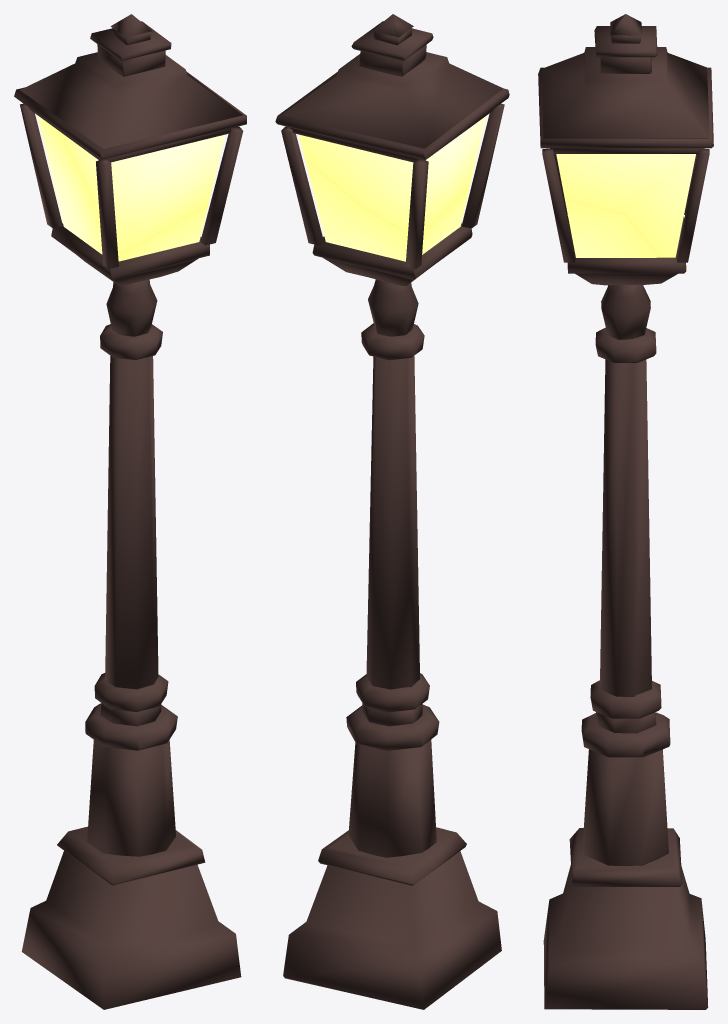
The picture shows the model from 3 angles, left to right: view 1: azimuth 30°, elevation 25°; view 2: azimuth 150°, elevation 25°; view 3: azimuth 270°, elevation 25°; orthographic projection.
Parts seen in each view (by area): view 1: body, object 1; view 2: body, object 1; view 3: body, object 1.
Boxes of the visible parts, box(x1,y1,x2,y2) form: body: box(14, 14, 246, 1009); object 1: box(37, 115, 225, 261); body: box(275, 14, 509, 1009); object 1: box(299, 116, 486, 261); body: box(538, 14, 713, 1009); object 1: box(556, 154, 695, 257).
Size of the model in its own units: 0.64 by 3.87 by 0.64.
